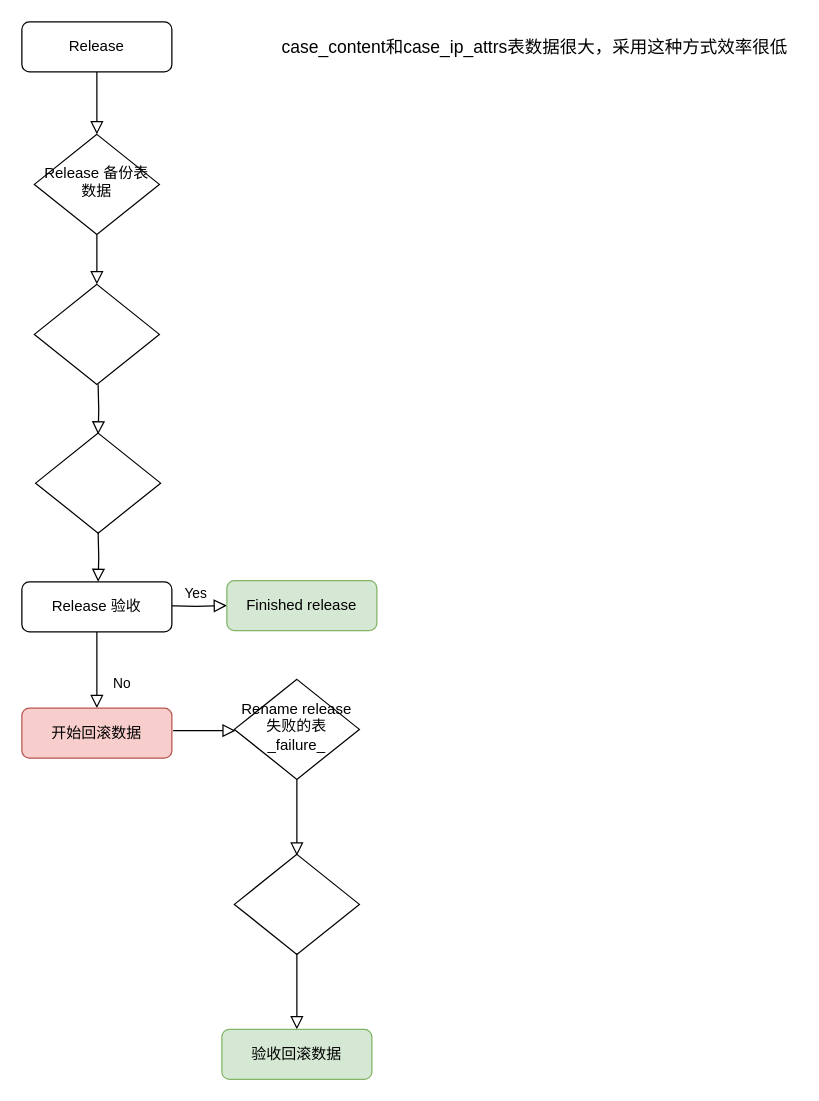
Image size: 819x1101. Some labels were removed from this diagram. Each missing label, with the box of its shape:
Rename 需要回滚的别名表_rollback_到PRD的表名: (233, 853, 359, 954)
创建别名表结构 _rollback_: (33, 283, 159, 384)
插入备份表数据到别名表 _rollback_: (34, 432, 161, 533)
